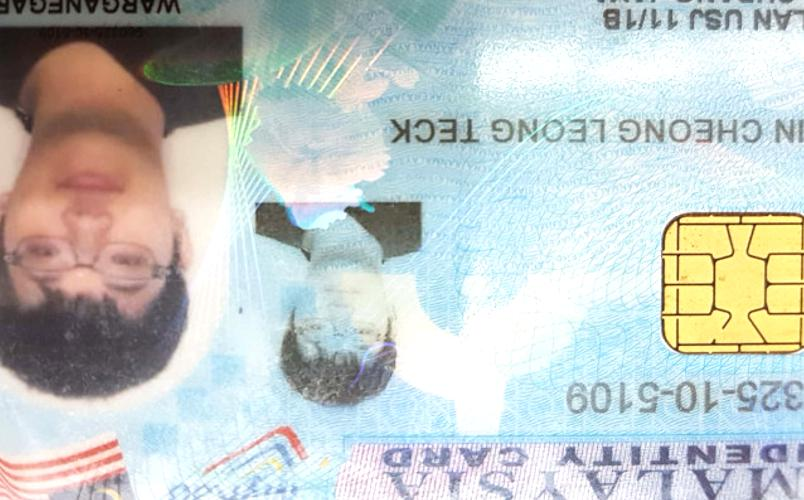hologramB: (244, 2, 389, 201)
